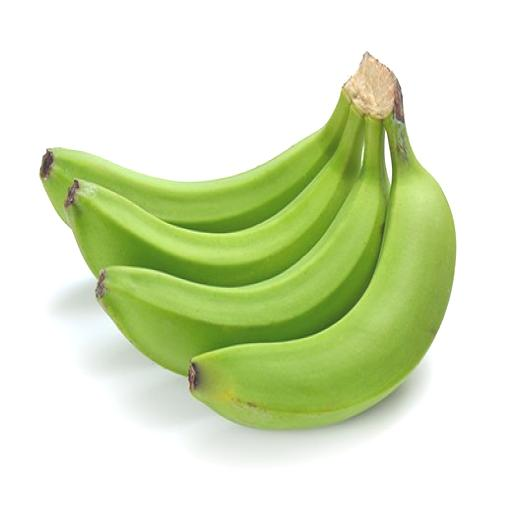banana-unripe: (30, 28, 477, 440)
